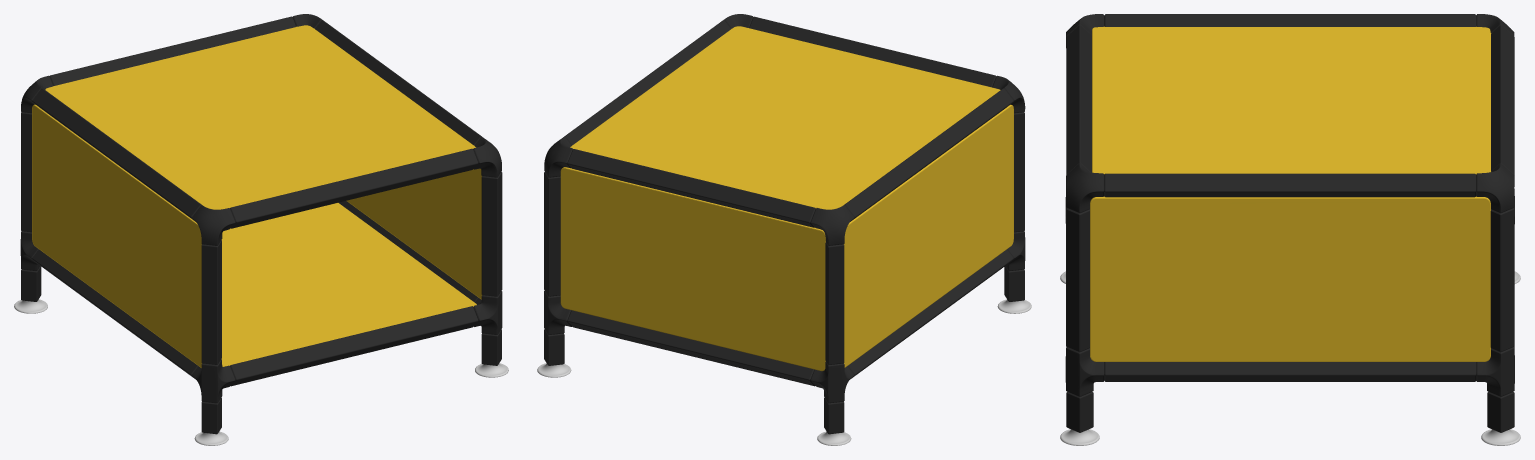
3 views of the same model, side by side, from view 1: azimuth 30°, elevation 25°; view 2: azimuth 150°, elevation 25°; view 3: azimuth 270°, elevation 25° (orthographic). The views are drawn at different scales.
Parts seen in each view (by area): view 1: 329x374x154; view 2: 329x374x154; view 3: 329x374x154.
Part boxes in pixels (x1,y1,x2,y2): 329x374x154: [14, 14, 508, 445]; 329x374x154: [537, 14, 1031, 445]; 329x374x154: [1060, 14, 1520, 445].
Bounding box in the file's own units: 0.4189 × 0.2933 × 0.4632.
